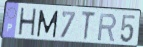5: (119, 14, 137, 44)
7: (60, 9, 77, 40)
H: (17, 7, 38, 39)
M: (36, 9, 60, 39)
R: (97, 12, 118, 43)
T: (81, 10, 97, 42)
